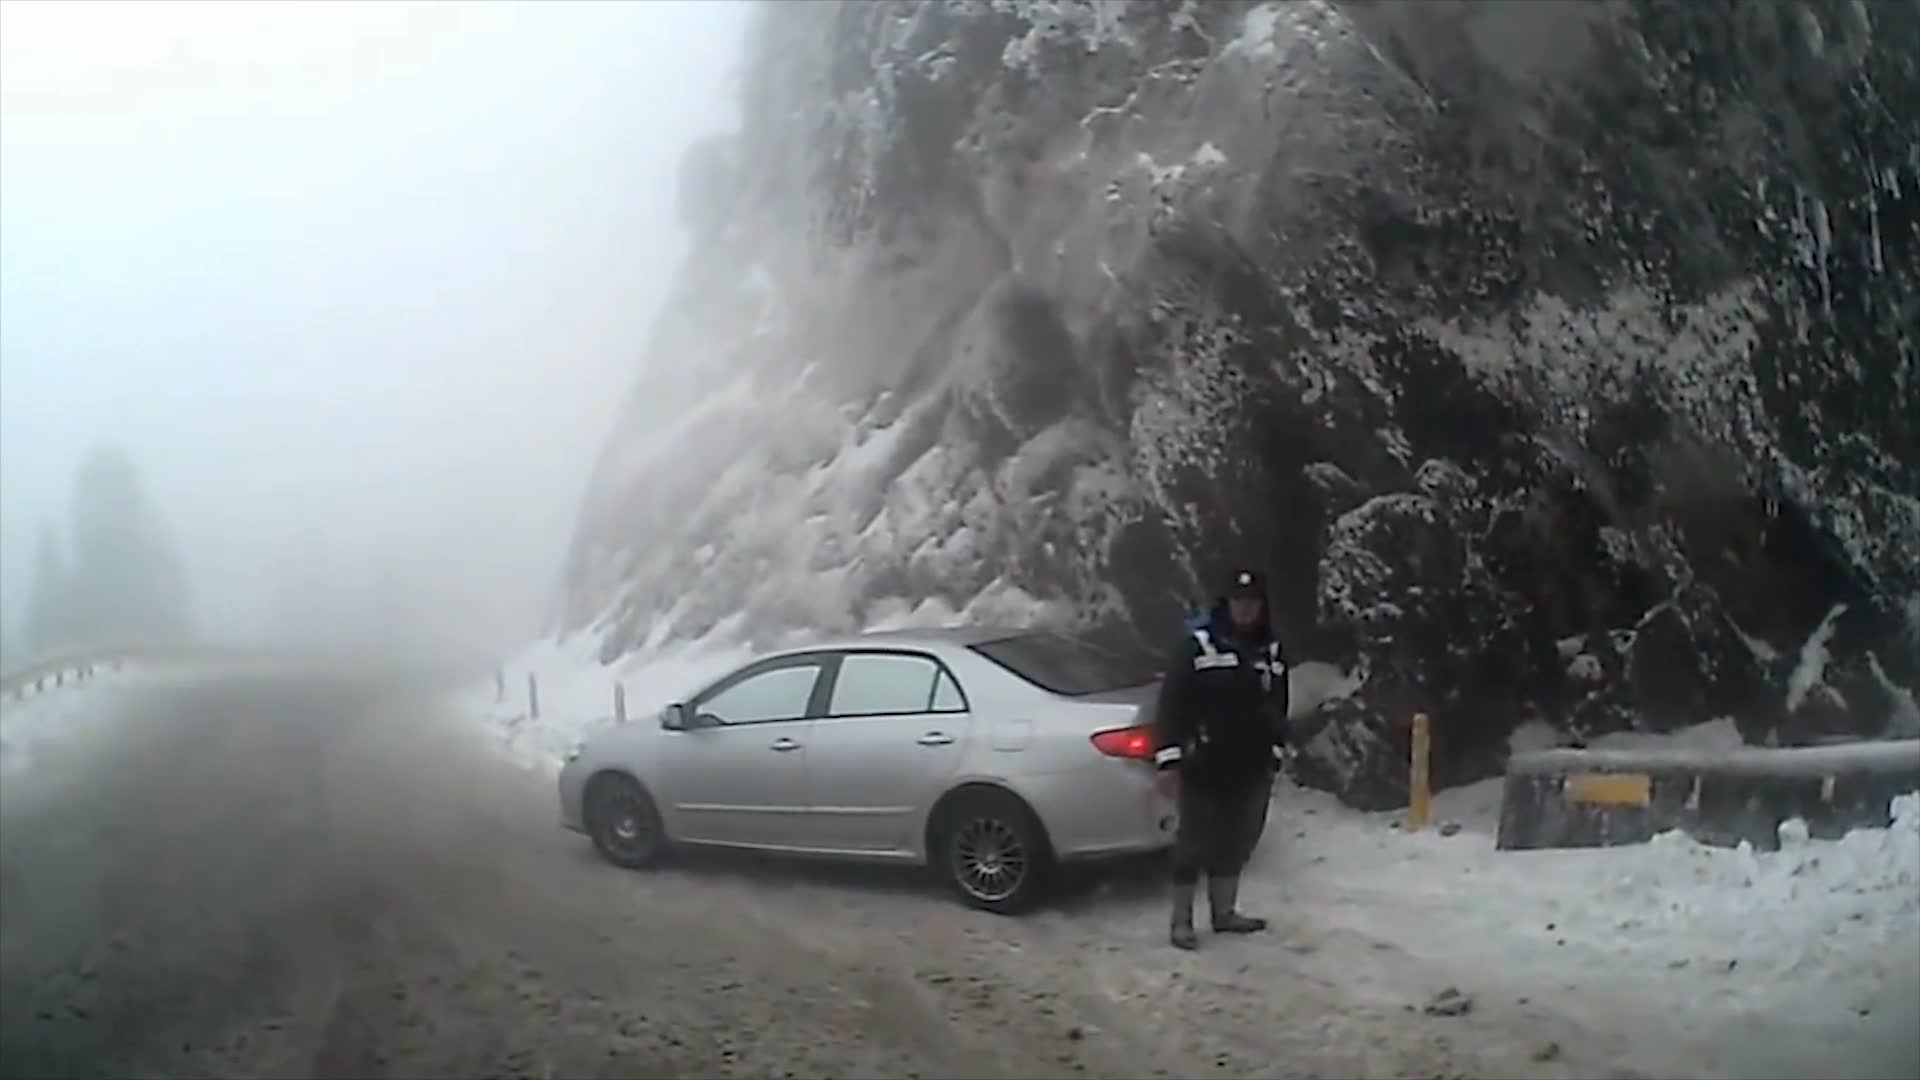pedestrian: (1148, 569, 1291, 951)
vehicle: (553, 623, 1269, 914)
